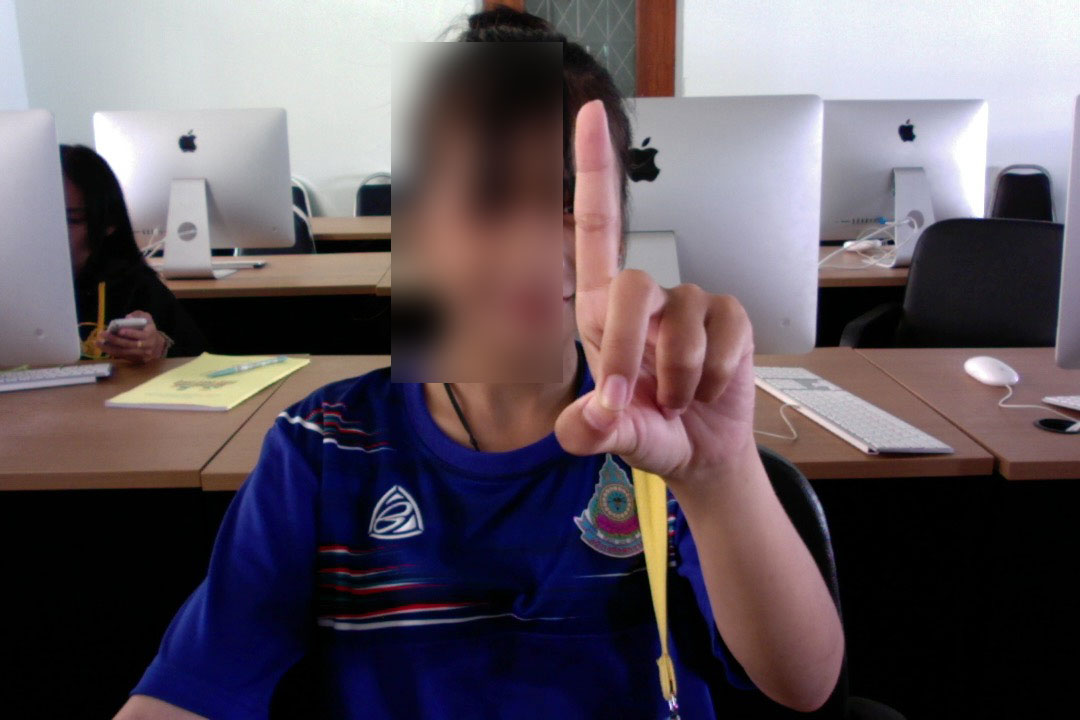dor: (548, 91, 771, 477)
